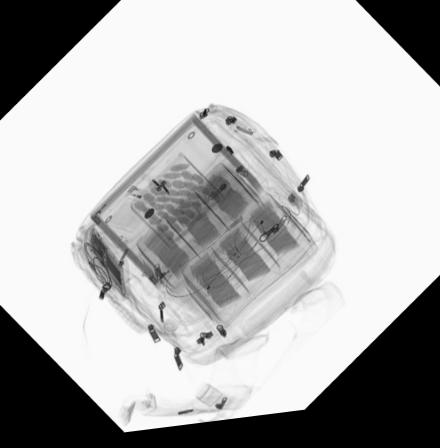Lighter: (122, 187, 158, 211)
